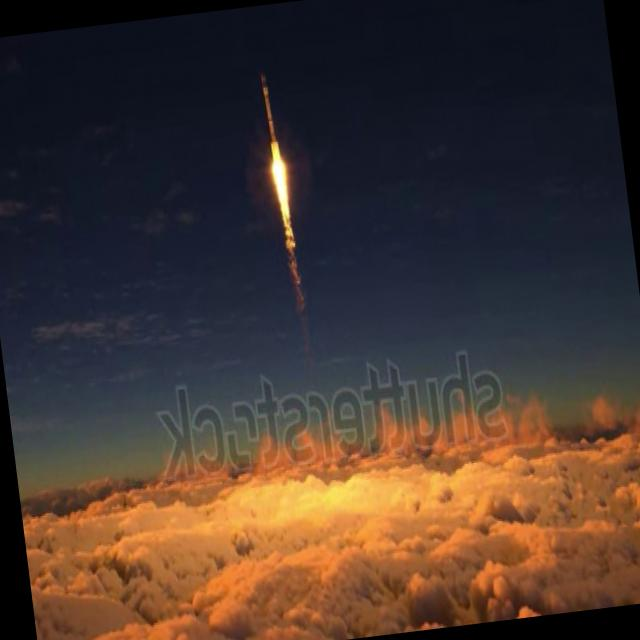rocket: (255, 60, 307, 297)
